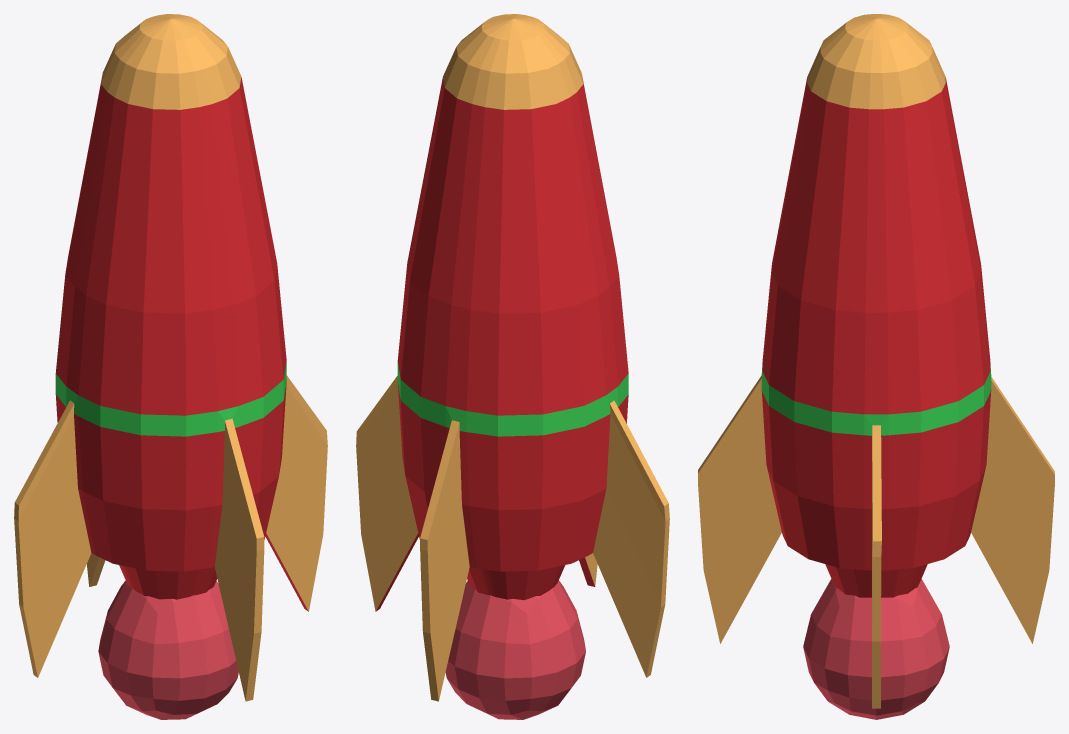
The model's file is rocket.fbx.
3 views of the same model, side by side, from view 1: azimuth 30°, elevation 25°; view 2: azimuth 150°, elevation 25°; view 3: azimuth 270°, elevation 25° (orthographic).
Parts seen in each view (by area): view 1: Cylinder, Cube; view 2: Cylinder, Cube; view 3: Cylinder, Cube.
Boxes of the visible parts, x1,y1,x2,y2 form: Cylinder: [14, 14, 327, 701]; Cube: [98, 580, 238, 719]; Cylinder: [356, 14, 669, 701]; Cube: [445, 580, 585, 719]; Cylinder: [698, 14, 1054, 708]; Cube: [803, 579, 949, 719].
Size of the model in its own units: 350 by 752 by 350.
